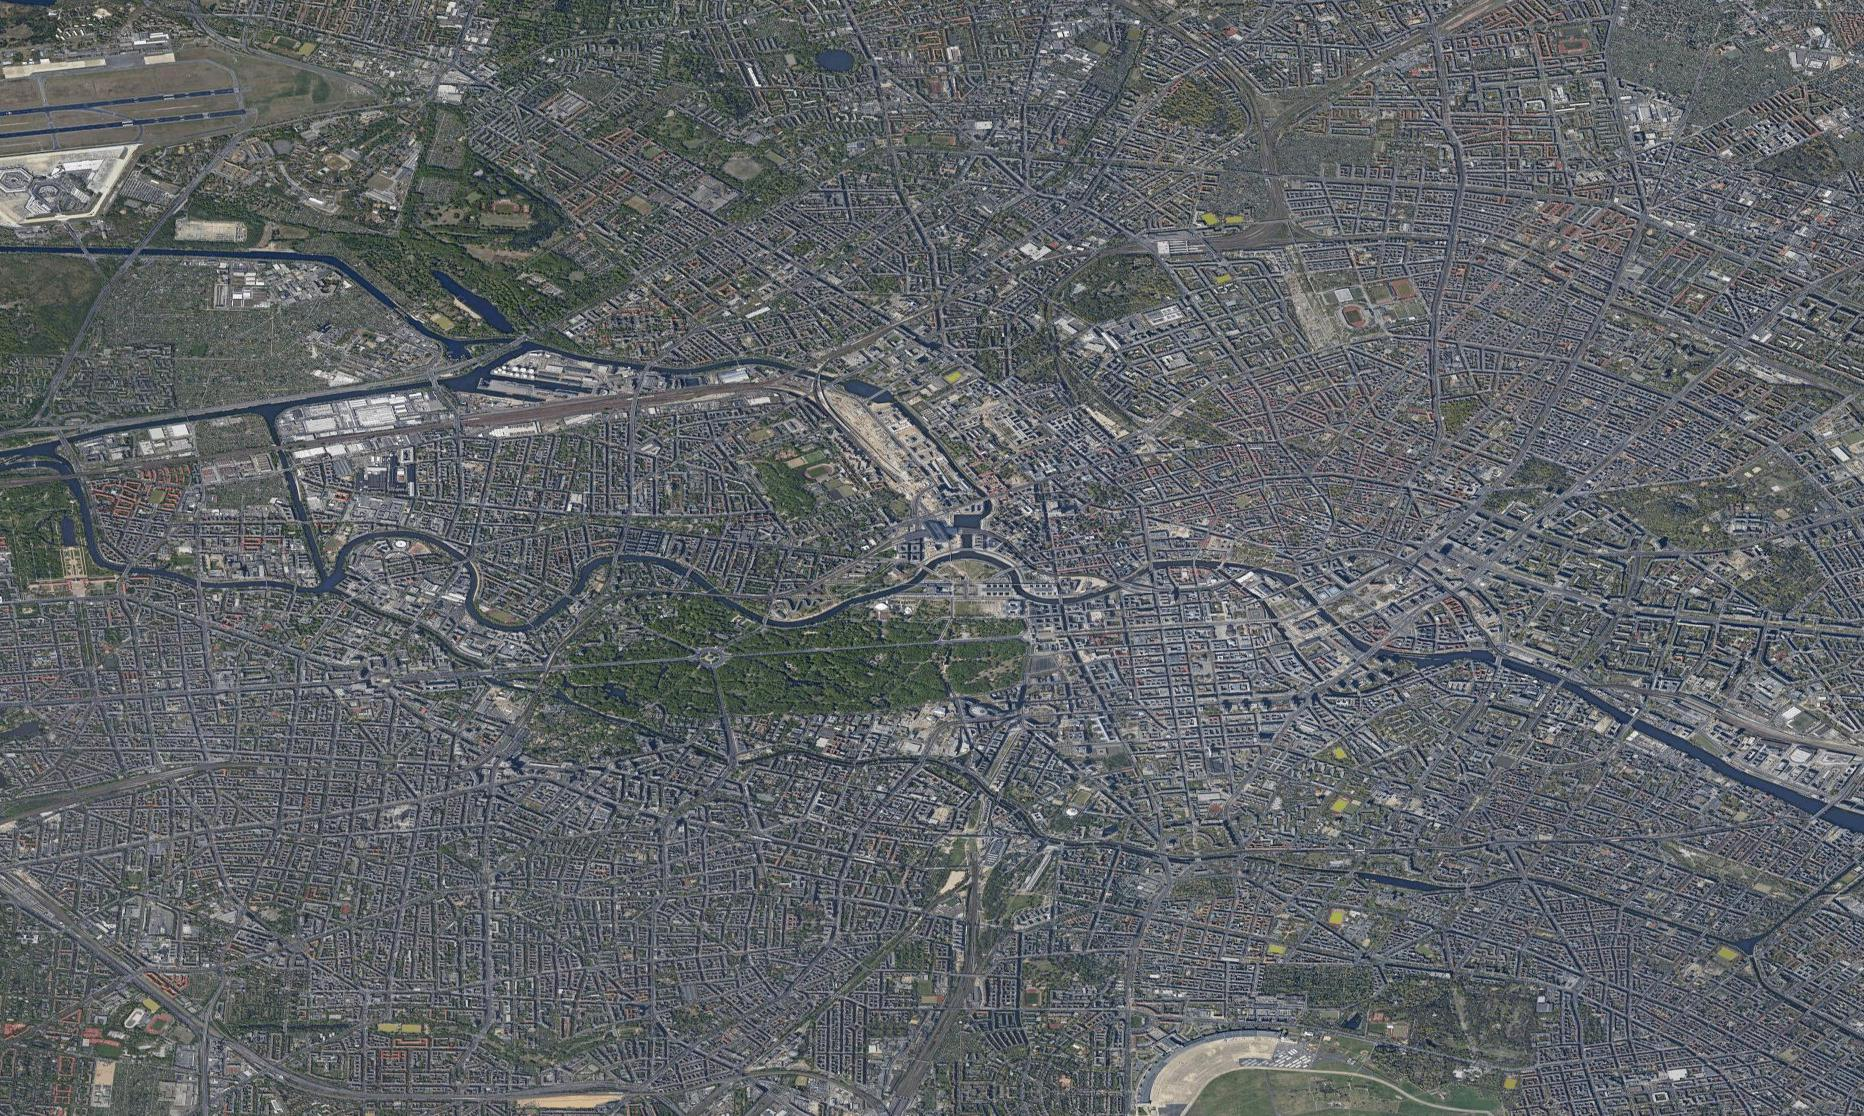bridge: (1810, 794, 1837, 825), (1356, 640, 1382, 659), (1484, 650, 1511, 666), (450, 554, 468, 571), (1553, 671, 1568, 690), (561, 590, 581, 603), (1624, 713, 1639, 729), (684, 563, 698, 581), (757, 615, 771, 632), (608, 553, 619, 574), (117, 562, 132, 577), (284, 585, 298, 597), (194, 578, 203, 593), (1117, 581, 1129, 590)
industrial: (921, 460, 988, 510)
train_station: (873, 515, 970, 567)
